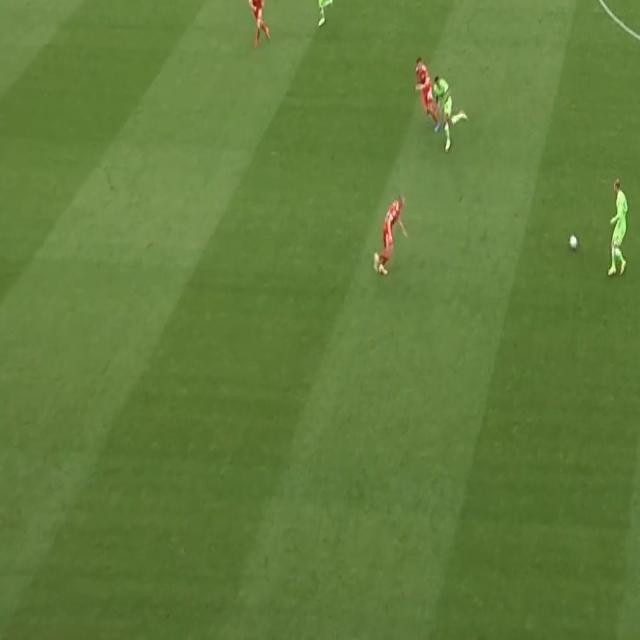ball: (568, 233, 579, 253)
